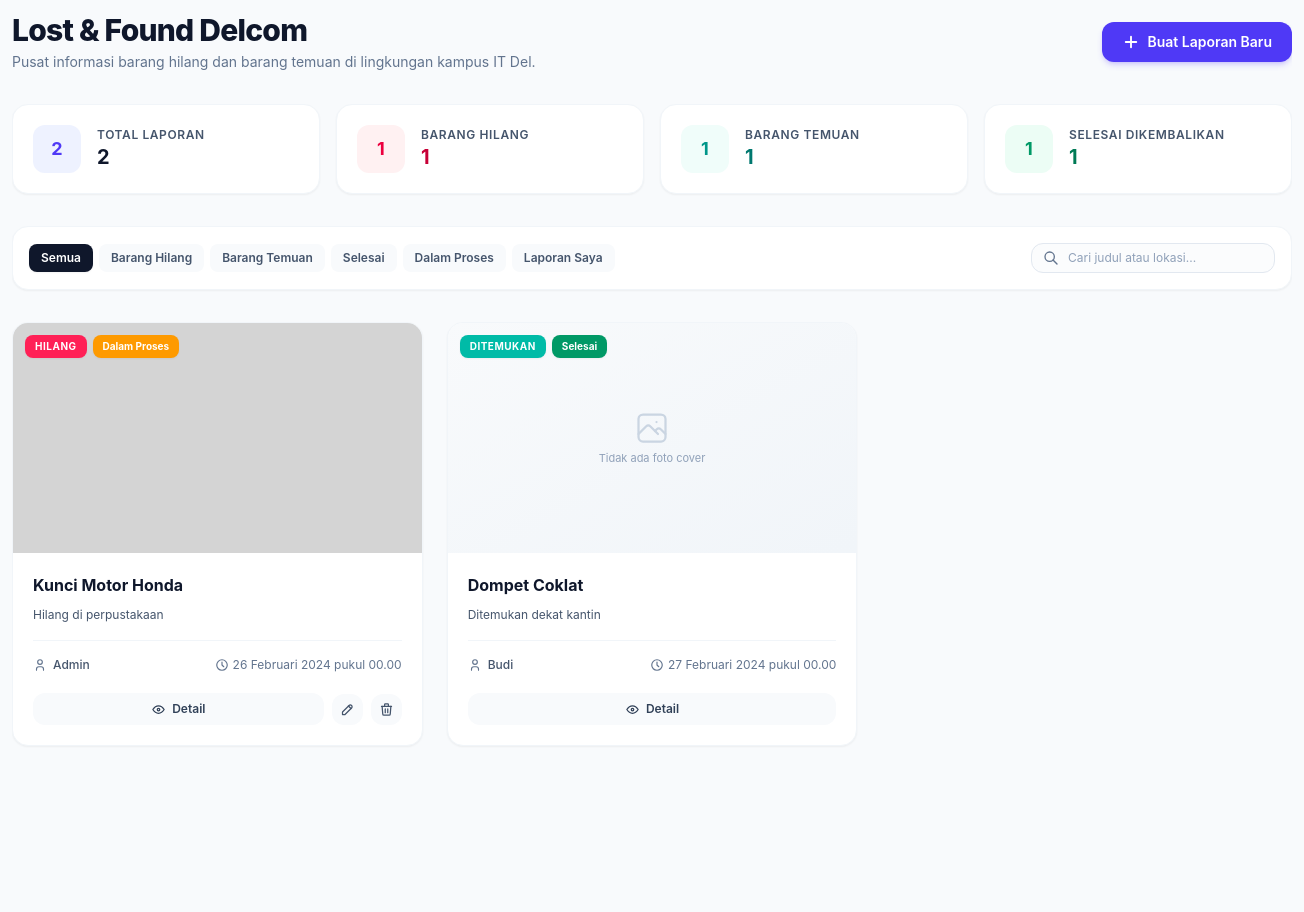
Test: HomePage › should filter items with search input
This screenshot has width=1304, height=912.
In the field with test id "search-input": (1153, 258) [1031, 243, 1275, 273], type "Kunci"
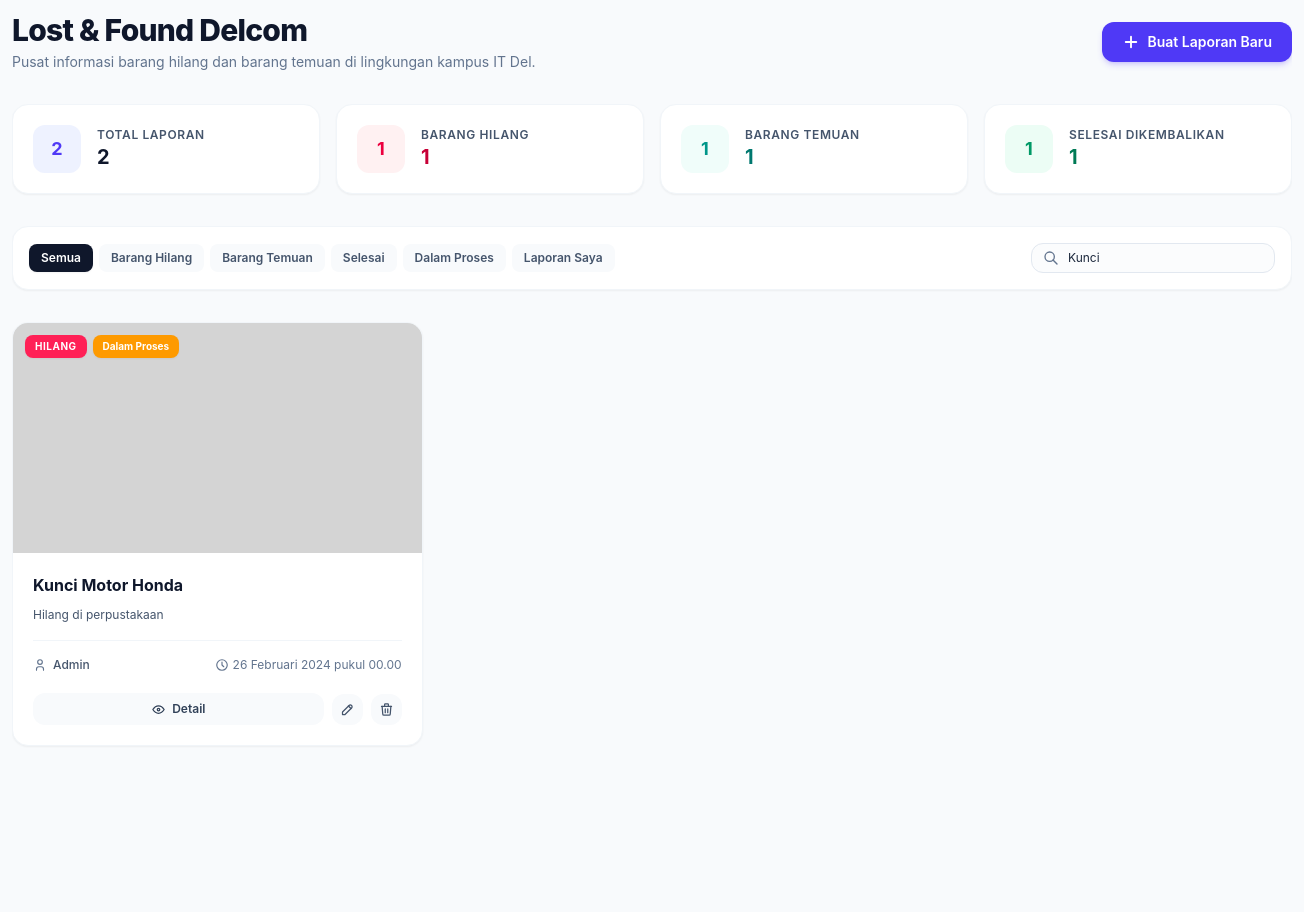
Check: the heading "Kunci Motor Honda" is shown, box [33, 575, 183, 595]
Check: the heading "Dompet Coklat" is gone
# No results match
Replace the text in the field with test id "search-input" with "Tidak Ada Apa-apa": (1153, 258) [1031, 243, 1275, 273]
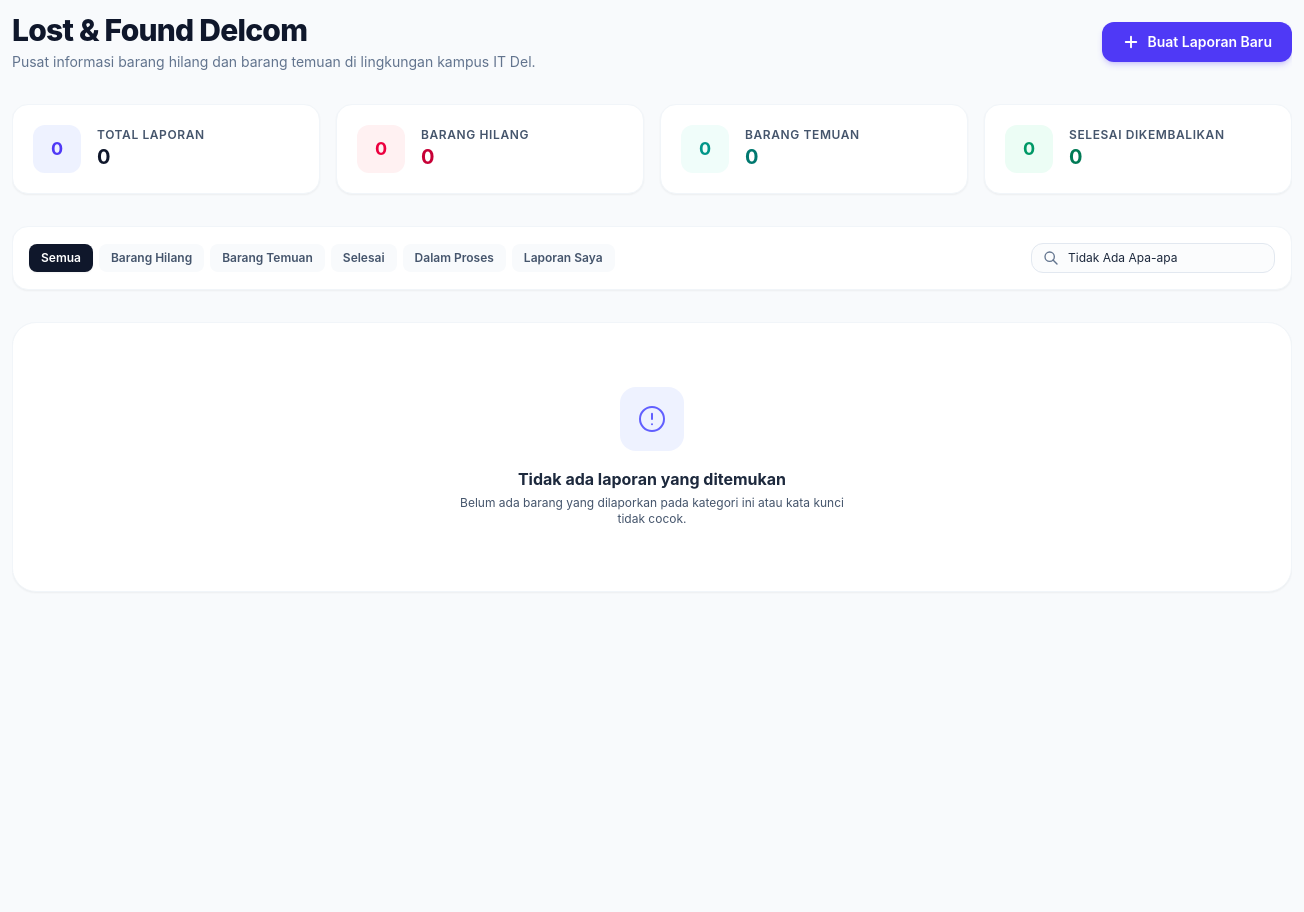
Check: the element with test id "empty-state" is shown, box [12, 322, 1292, 592]
